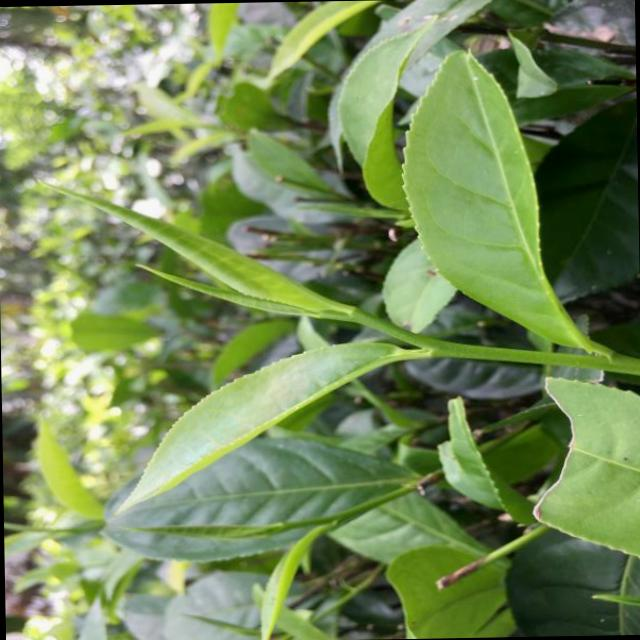Stem: (428, 341, 460, 353), (336, 507, 358, 523)
